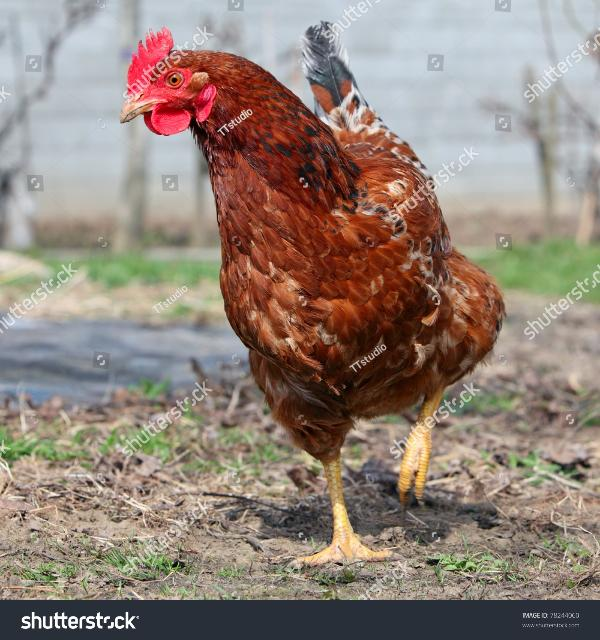Chicken: (119, 18, 505, 566)
